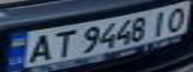4: (100, 20, 121, 50), (115, 16, 136, 45)
8: (127, 13, 154, 42)
9: (78, 24, 103, 53)
A: (21, 31, 57, 64)
I: (145, 8, 175, 36)
O: (160, 3, 193, 33)
T: (45, 27, 78, 60)
